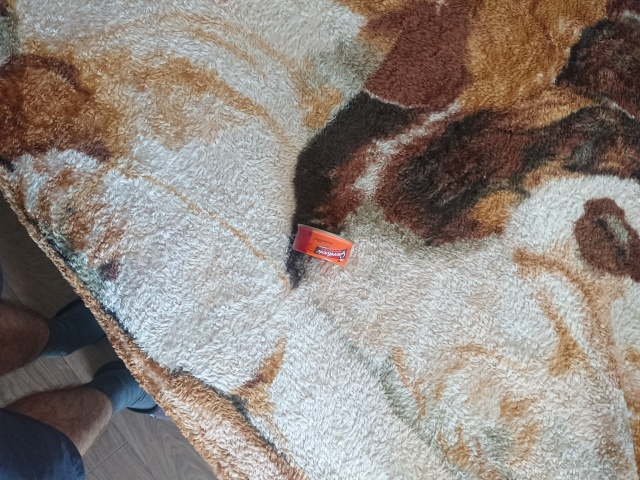Gavrilovic Pork Liver Pate 100g: (290, 221, 357, 267)
